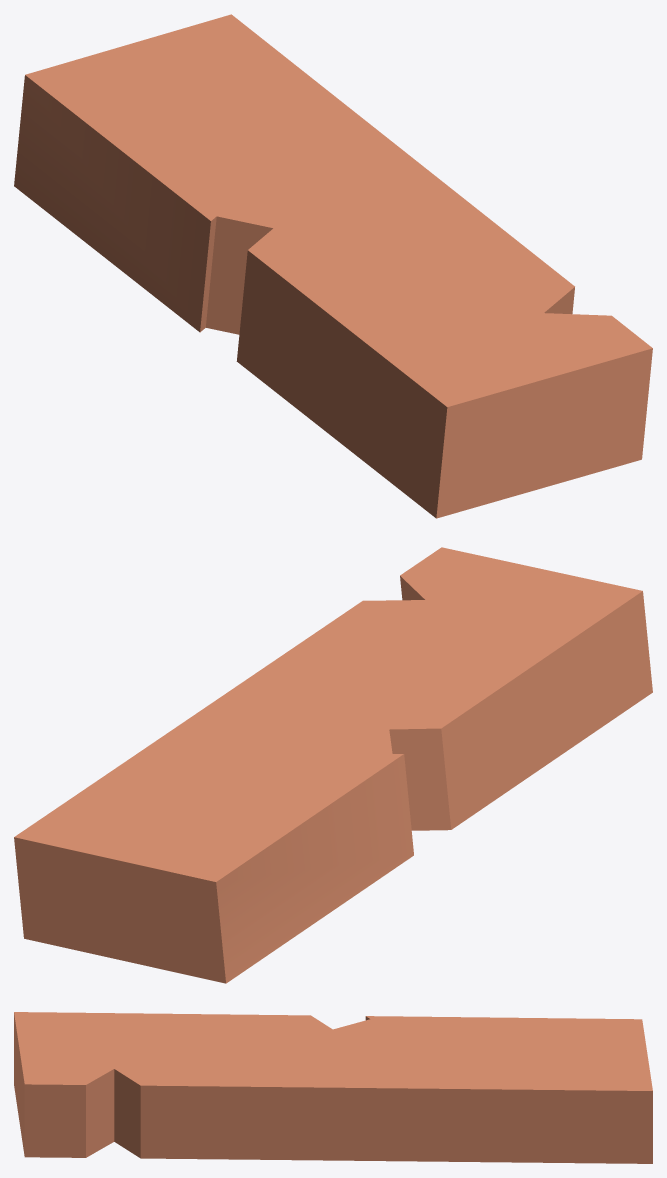
File: 2ndFloorSlabs2.fbx
3 renders of one model, top to bottom at view 1: azimuth 30°, elevation 25°; view 2: azimuth 150°, elevation 25°; view 3: azimuth 270°, elevation 25°, orthographic. The views are drawn at different scales.
Parts seen in each view (by area): view 1: Bridge3.002; view 2: Bridge3.002; view 3: Bridge3.002.
Part boxes in pixels (x1,y1,x2,y2): Bridge3.002: (14, 14, 652, 518); Bridge3.002: (14, 547, 652, 983); Bridge3.002: (14, 1012, 652, 1163).
Bounding box in the file's own units: 471 × 204 × 1491.
